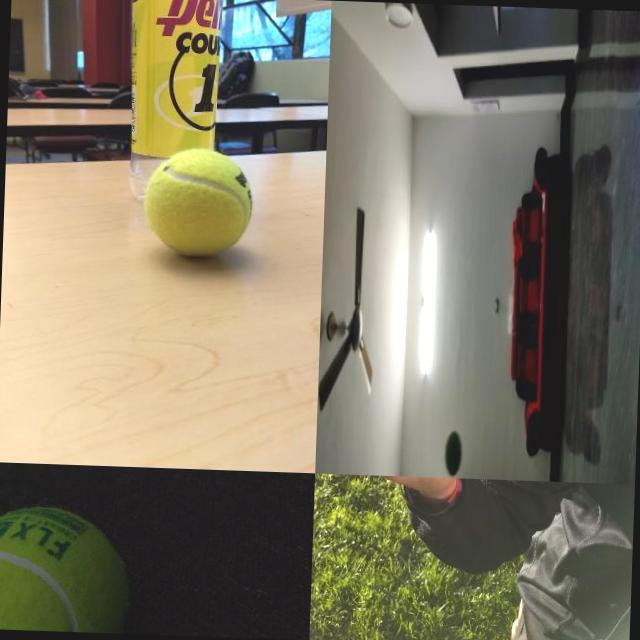Tennis Ball: (0, 502, 136, 632), (141, 144, 254, 260), (444, 428, 464, 477)
